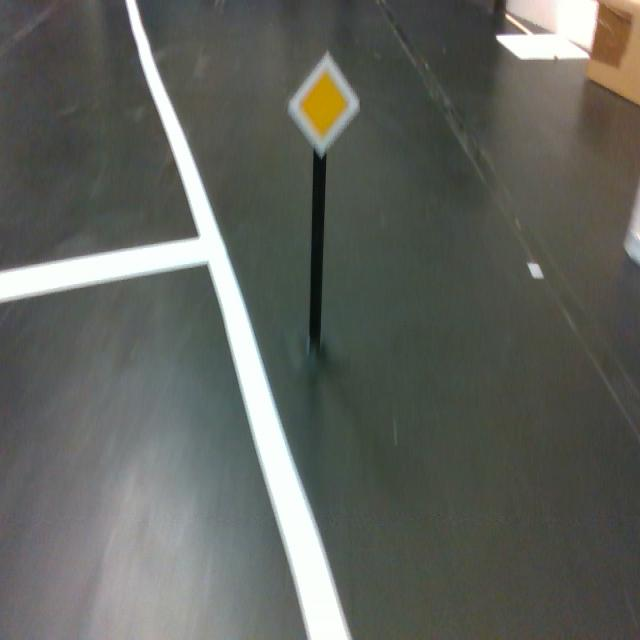priority-sign: (286, 48, 362, 162)
